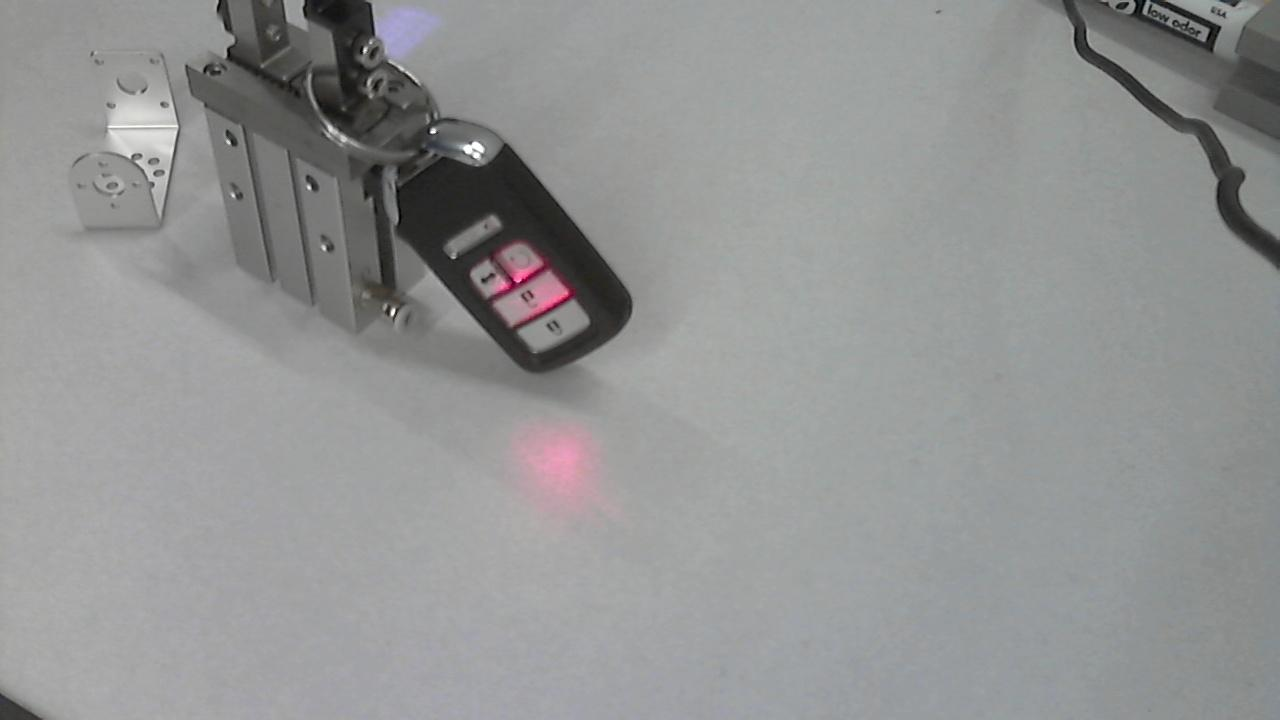Object car key fob with keyring - Material plastic - Pdfname u4lxlaYXiY3D: (473, 205, 578, 325)
